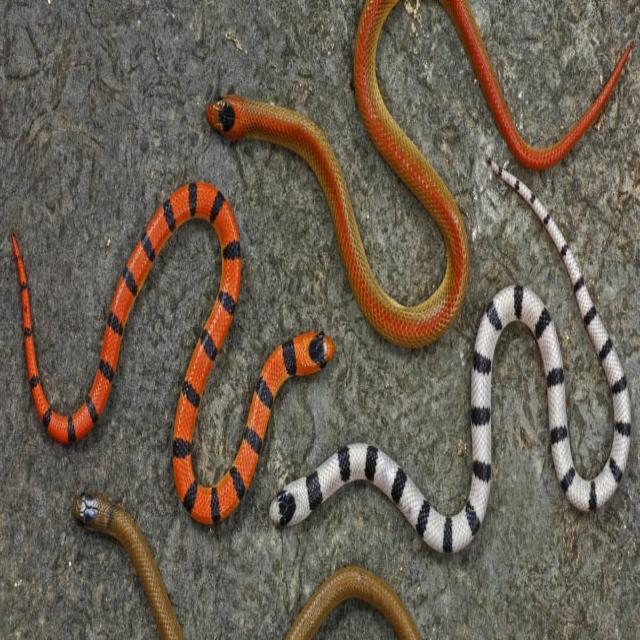Snake: (194, 0, 634, 351), (3, 172, 335, 523), (269, 282, 634, 558), (67, 486, 423, 640)
